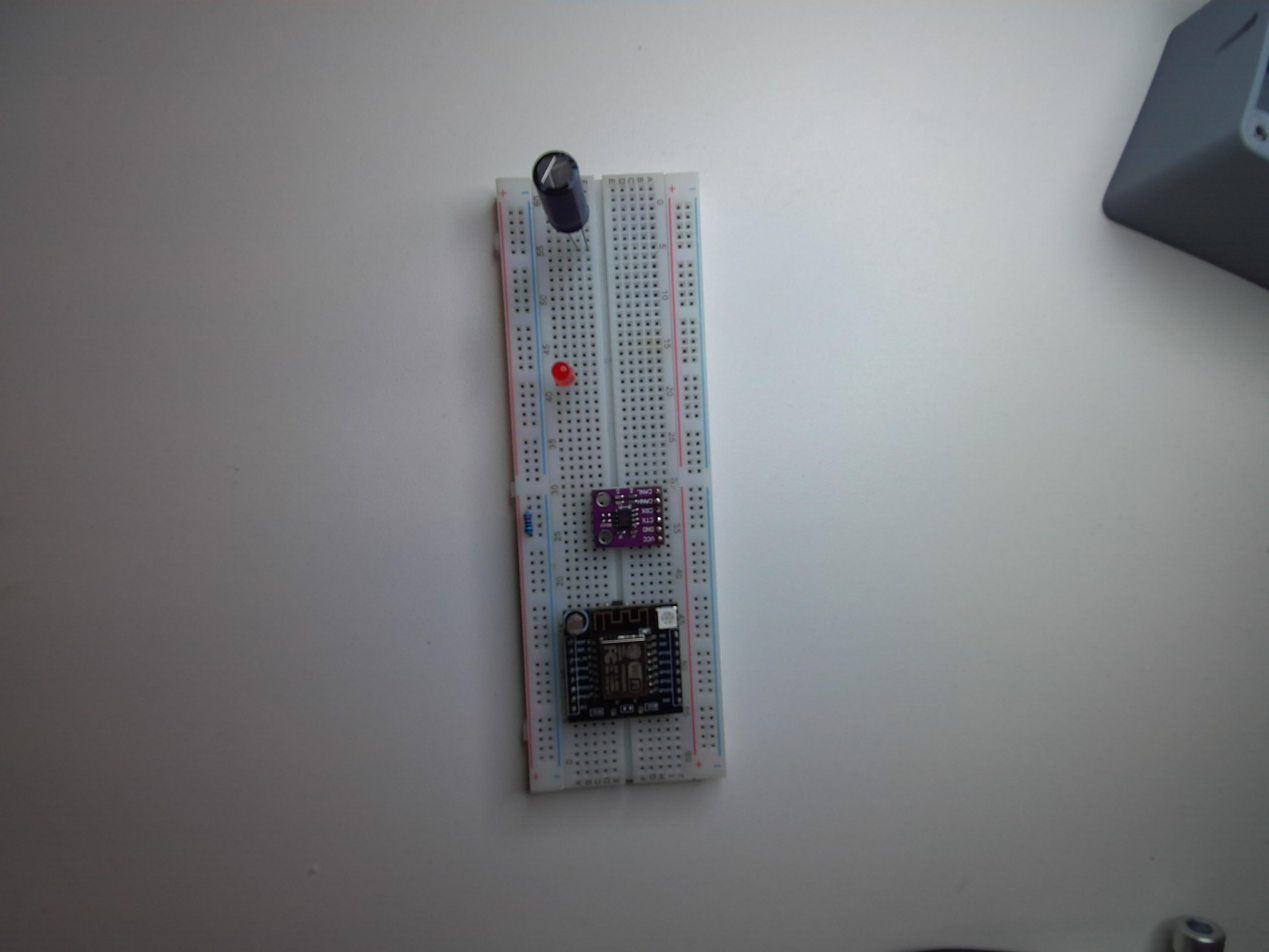base: (487, 158, 724, 800)
capacitor: (530, 144, 592, 238)
esp: (556, 600, 687, 728)
purple-board: (586, 484, 672, 554)
red-led: (548, 355, 578, 393)
resistor-small: (517, 509, 540, 538)
